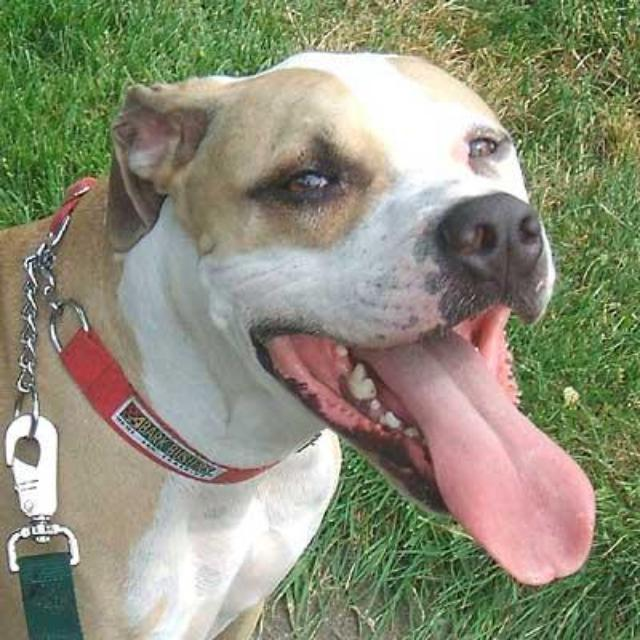amstaff: (2, 49, 597, 639)
